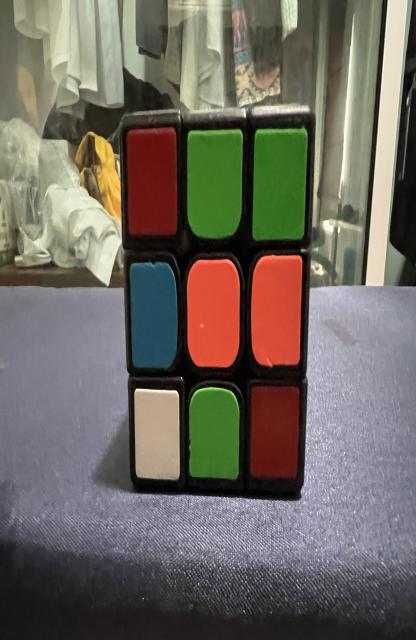Blue: (129, 262, 178, 368)
Green: (187, 128, 243, 238), (253, 128, 308, 240), (189, 387, 240, 480)
Orange: (187, 258, 240, 367), (251, 255, 302, 367)
Red: (127, 127, 177, 235), (250, 385, 300, 478)
White: (134, 388, 180, 480)
